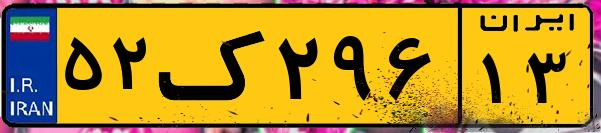1: (475, 38, 525, 113)
2: (270, 28, 330, 110), (110, 28, 158, 98)
3: (525, 38, 570, 115)
5: (57, 26, 110, 100)
6: (385, 28, 445, 110)
9: (330, 28, 385, 110)
ک: (158, 12, 270, 120)
